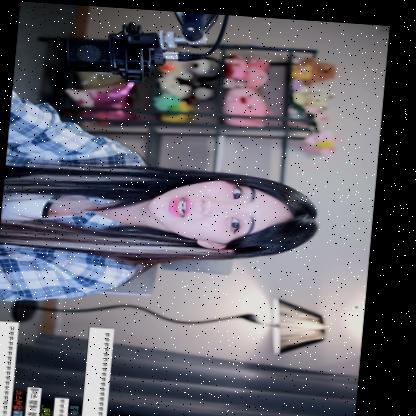streamer: (0, 90, 330, 319)
